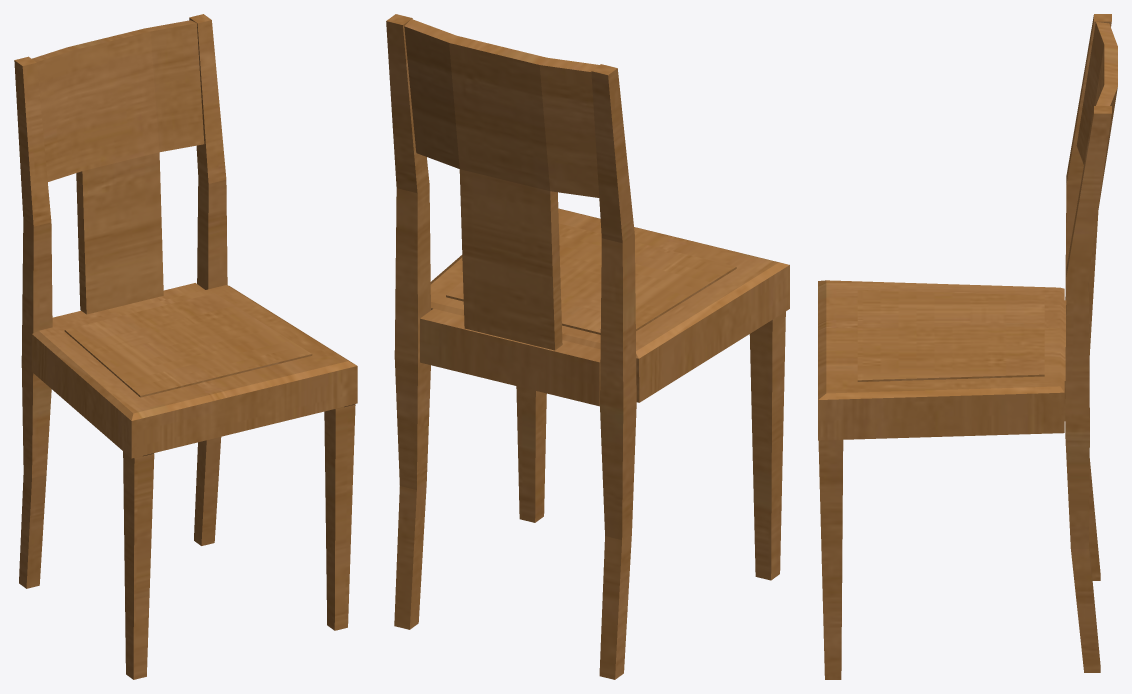
File: chair_01.obj
3 renders of one model, left to right at view 1: azimuth 30°, elevation 25°; view 2: azimuth 150°, elevation 25°; view 3: azimuth 270°, elevation 25°, orthographic. The views are drawn at different scales.
Visible parts, largest first — view 1: Cube.001_Cube.003; view 2: Cube.001_Cube.003; view 3: Cube.001_Cube.003.
Boxes of the visible parts, left/top/right/bottom form: Cube.001_Cube.003: left=14, top=14, right=357, bottom=679; Cube.001_Cube.003: left=386, top=14, right=789, bottom=679; Cube.001_Cube.003: left=818, top=14, right=1117, bottom=679.
Bounding box in the file's own units: 0.41 × 0.9 × 0.4364.
